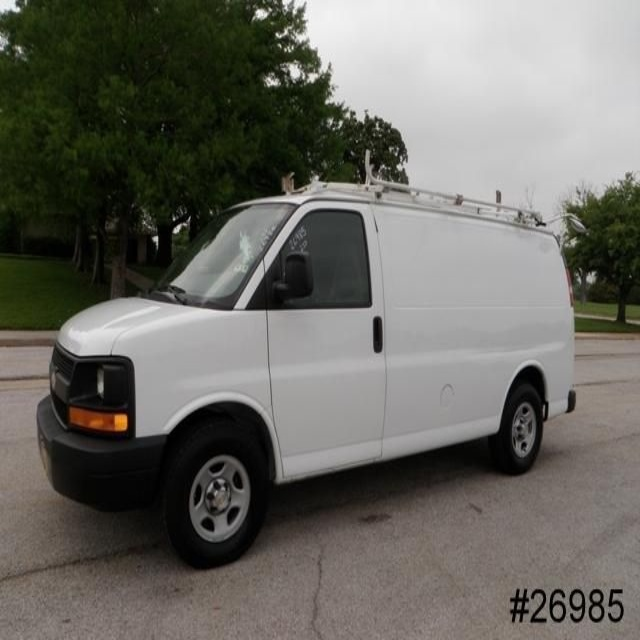Van: (36, 180, 575, 569)
